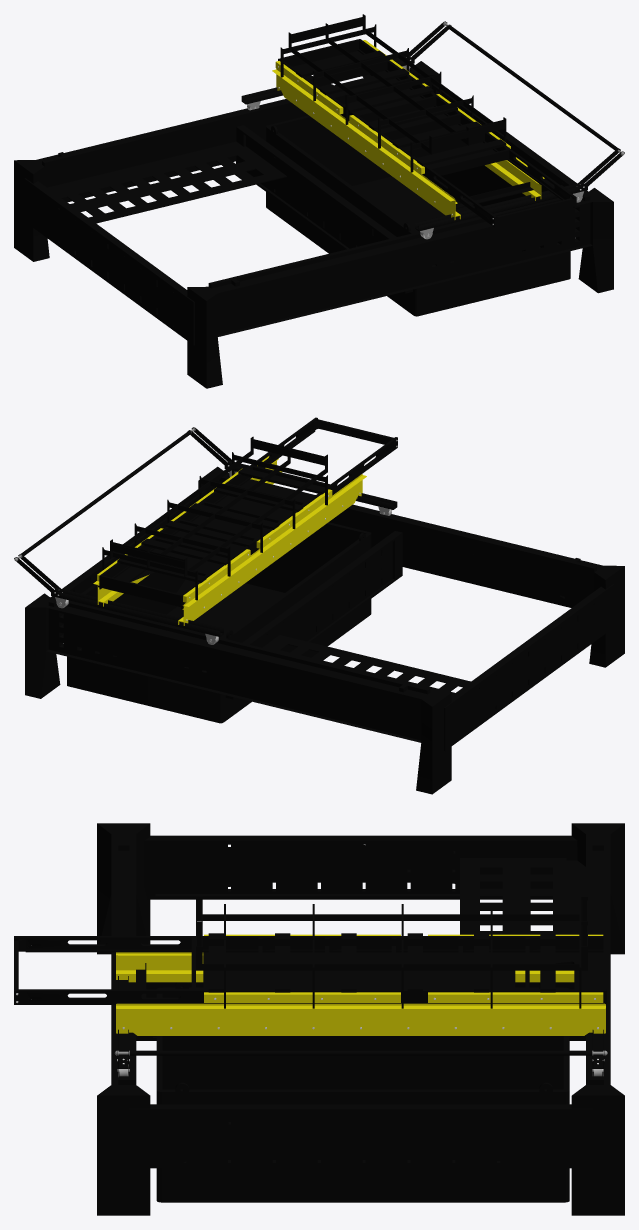
File: Frame2.0.fbx
3 renders of one model, top to bottom at view 1: azimuth 30°, elevation 25°; view 2: azimuth 150°, elevation 25°; view 3: azimuth 270°, elevation 25°, orthographic. The views are drawn at different scales.
Parts seen in each view (by area): view 1: Frame, Bath, SideWall, Part, MiddleWall, Directional, Mechanism, Part_3, Part_2, Trolley, Frame.001, Slider (+6 smaller); view 2: Frame, Bath, SideWall, MiddleWall, Directional, Mechanism, Part_2, Slider, Trolley, Part, Frame.001, Rele (+6 smaller); view 3: SideWall, Bath, Frame, Directional, Mechanism, Frame.001, Slider, Part, Part_1, Part_2, Handle, Part_3 (+3 smaller).
Boxes of the visible parts, x1,y1,x2,y2 form: Frame: [14, 61, 613, 388]; Bath: [266, 115, 570, 316]; SideWall: [24, 84, 588, 345]; Part: [47, 141, 286, 223]; MiddleWall: [236, 125, 412, 293]; Directional: [272, 68, 544, 220]; Mechanism: [278, 39, 576, 227]; Part_3: [306, 60, 509, 176]; Part_2: [296, 50, 506, 166]; Trolley: [280, 24, 506, 172]; Frame.001: [288, 14, 506, 154]; Slider: [292, 51, 495, 167]; Frame: [25, 466, 624, 794]; Bath: [67, 522, 371, 723]; SideWall: [50, 489, 614, 750]; MiddleWall: [225, 531, 402, 699]; Directional: [93, 456, 366, 625]; Mechanism: [99, 417, 397, 605]; Part_2: [117, 467, 324, 583]; Slider: [98, 479, 315, 607]; Trolley: [102, 452, 327, 600]; Part: [262, 635, 470, 695]; Frame.001: [110, 436, 327, 576]; Rele: [51, 460, 397, 636]; SideWall: [129, 835, 592, 1168]; Bath: [156, 982, 569, 1202]; Frame: [97, 823, 624, 1215]; Directional: [116, 952, 605, 1035]; Mechanism: [14, 936, 606, 1004]; Frame.001: [196, 896, 587, 970]; Slider: [203, 952, 603, 989]; Part: [460, 858, 585, 934]; Part_1: [204, 934, 603, 1002]; Part_2: [208, 933, 555, 992]; Handle: [114, 1050, 607, 1055]; Part_3: [191, 937, 539, 989].
Bounding box in the file's own units: 1020 × 370 × 922.
